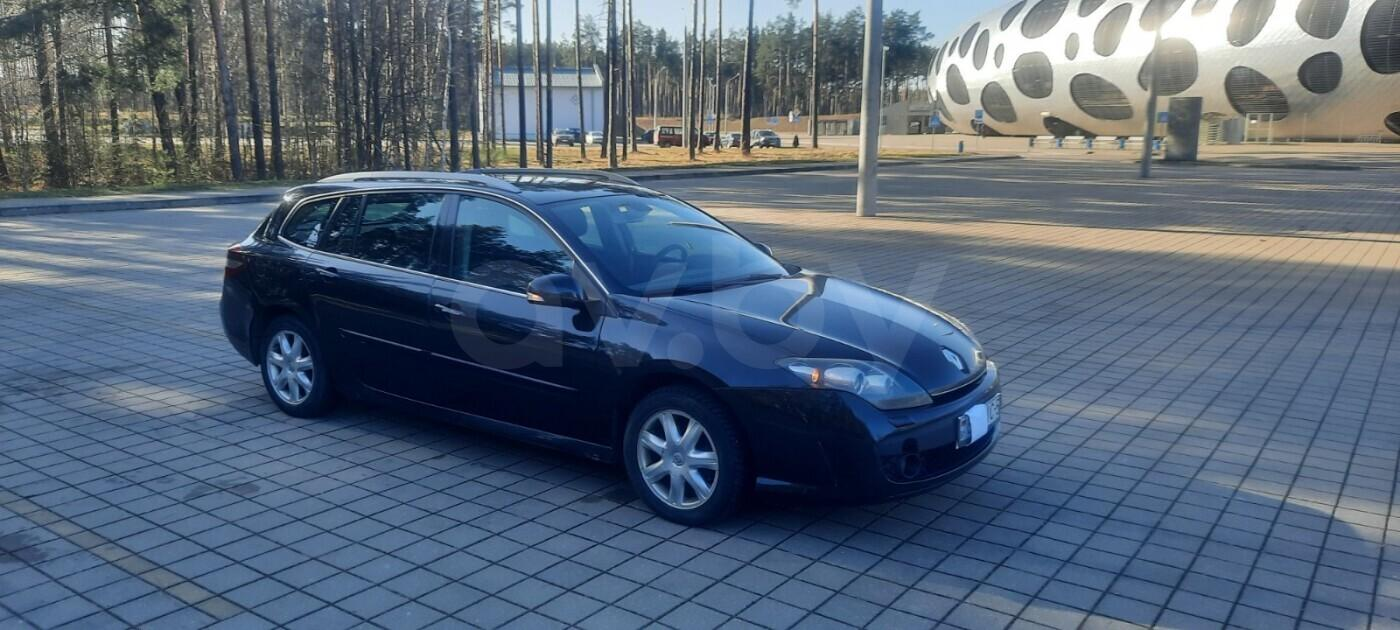Laguna_2007-2011: (220, 169, 1004, 523)
